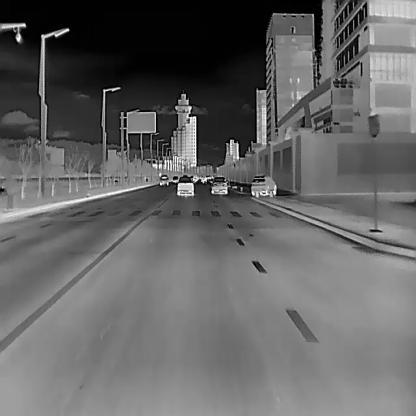car: (250, 173, 276, 196), (177, 174, 194, 196), (211, 177, 228, 194), (159, 173, 168, 185)
